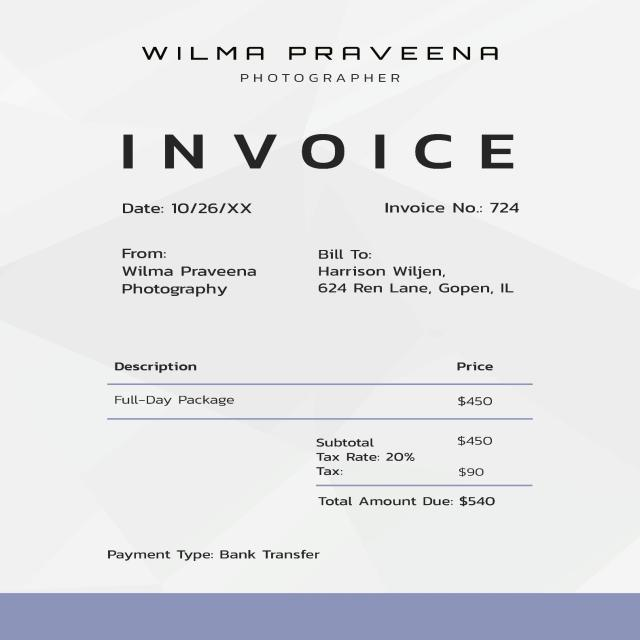ROI: (104, 343, 518, 413), (110, 118, 526, 176), (306, 424, 518, 516), (130, 36, 518, 86), (306, 238, 526, 303), (99, 234, 270, 300), (376, 191, 534, 221), (113, 194, 264, 223), (104, 544, 326, 563)
